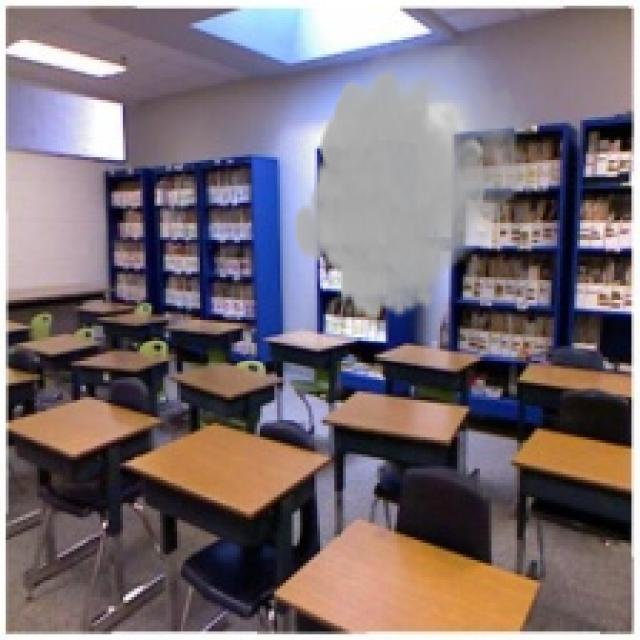Smoke: (292, 46, 537, 326)
